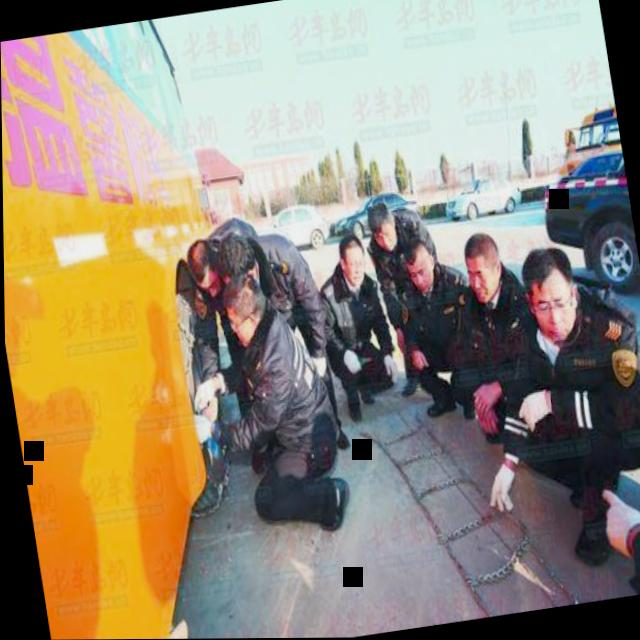Fall-Detected: (580, 437, 640, 601)
